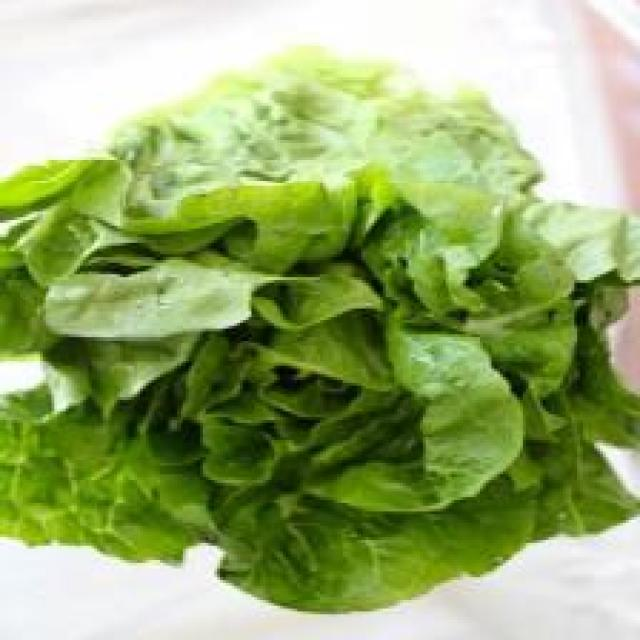Lettuce: (2, 61, 640, 618)
